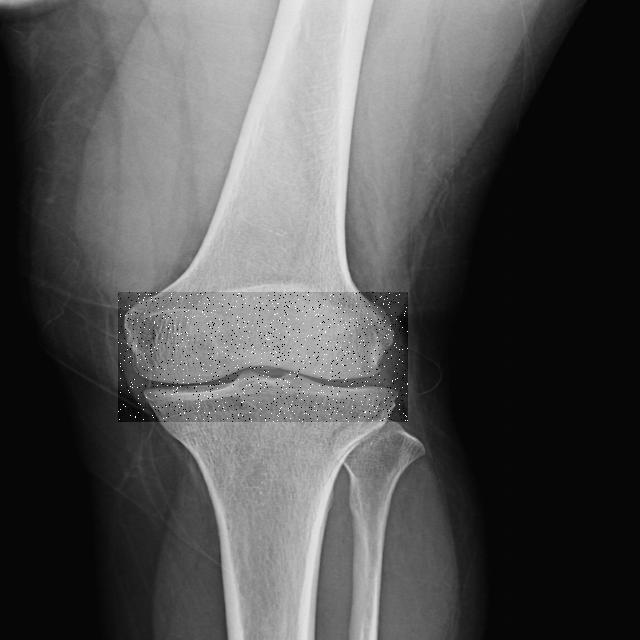normal: (118, 292, 408, 422)
